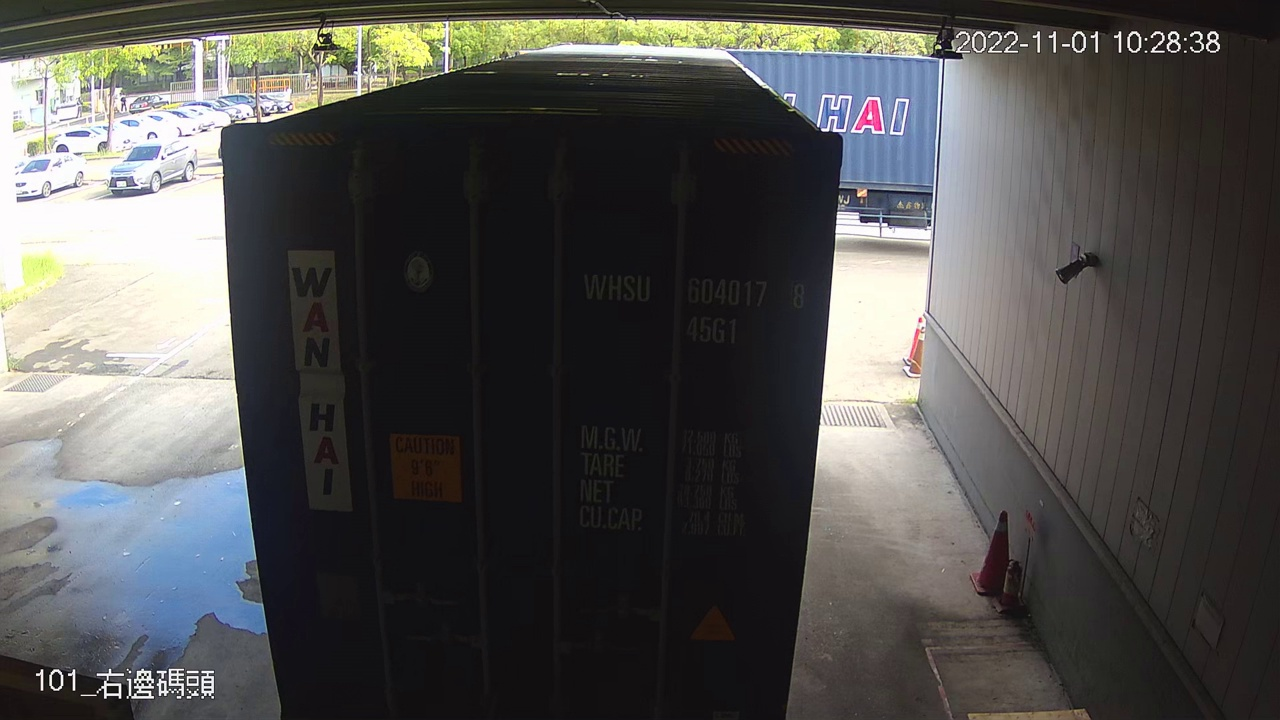container: (580, 268, 814, 352)
